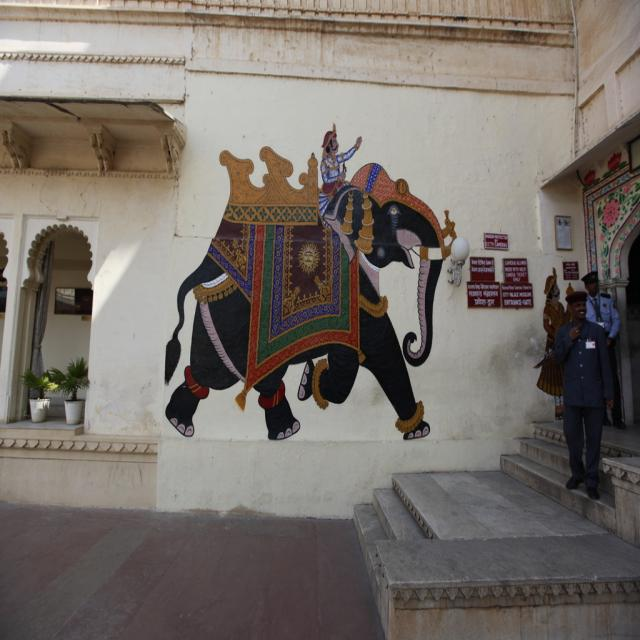elephant: (150, 160, 474, 432)
